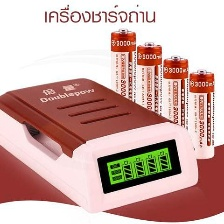battery: (106, 25, 139, 117), (134, 40, 164, 137), (186, 67, 217, 160), (160, 53, 189, 143)
